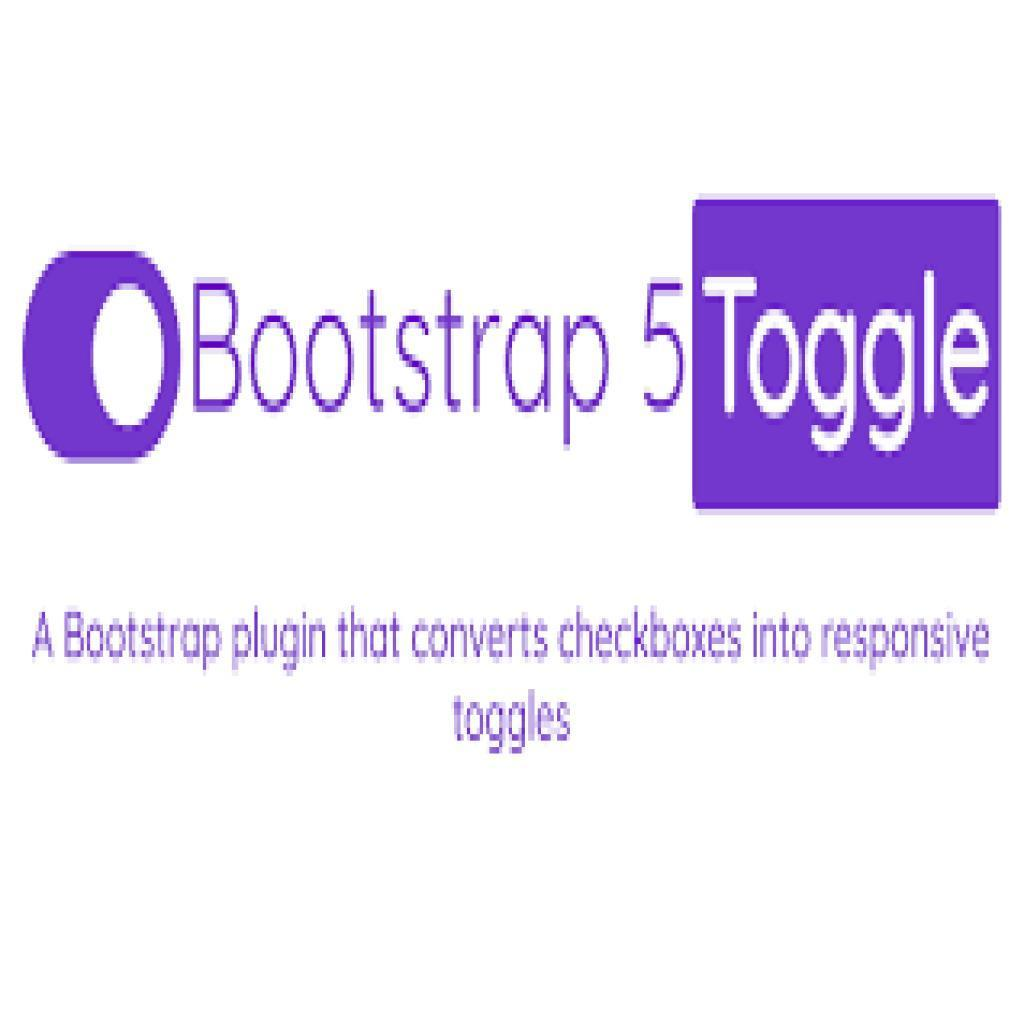switch: (18, 245, 190, 470)
